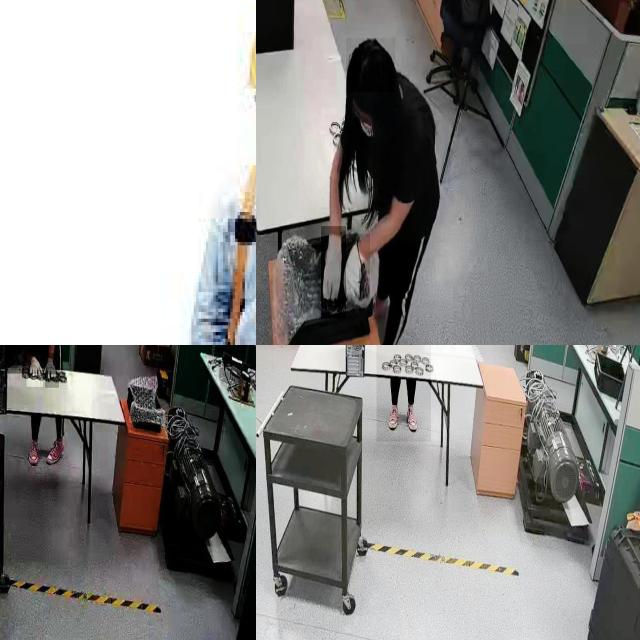hand_glove: (321, 226, 347, 320), (343, 234, 371, 308), (26, 353, 44, 388), (45, 353, 59, 389)
head_nohelmet: (346, 38, 396, 92)
person: (318, 35, 445, 345), (376, 345, 431, 442), (0, 345, 57, 374)
shoes: (46, 436, 65, 469), (384, 400, 402, 434), (27, 439, 41, 469)
